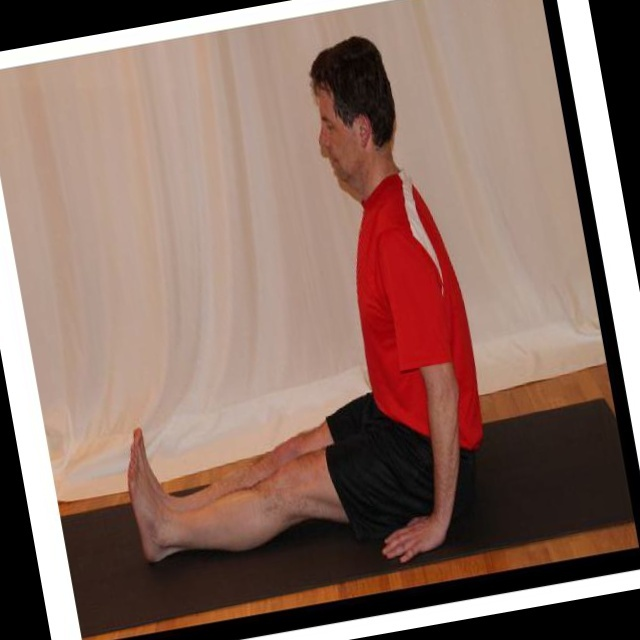Staff_Pose: (128, 37, 486, 564)
